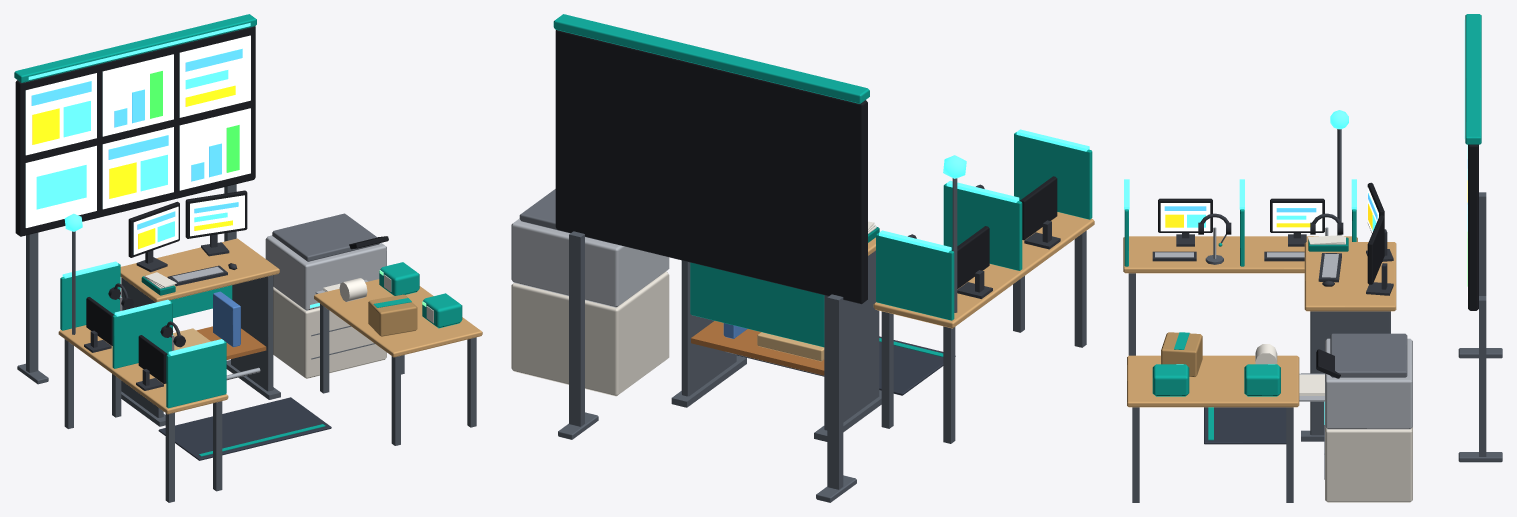
The model's file is station_intake_3.glb.
3 renders of one model, left to right at view 1: azimuth 30°, elevation 25°; view 2: azimuth 150°, elevation 25°; view 3: azimuth 270°, elevation 25°, orthographic. The views are drawn at different scales.
Parts seen in each view (by area): view 1: station_intake_3; view 2: station_intake_3; view 3: station_intake_3.
Boxes of the visible parts, x1,y1,x2,y2 form: station_intake_3: (14,14,482,502); station_intake_3: (511,14,1094,502); station_intake_3: (1123,14,1502,502).
Bounding box in the file's own units: 2.15 × 2 × 2.07.
